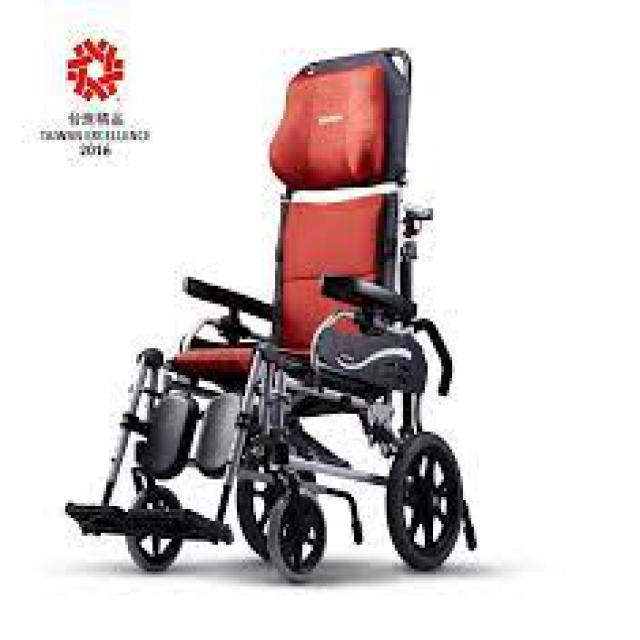wheelchair: (65, 41, 474, 584)
